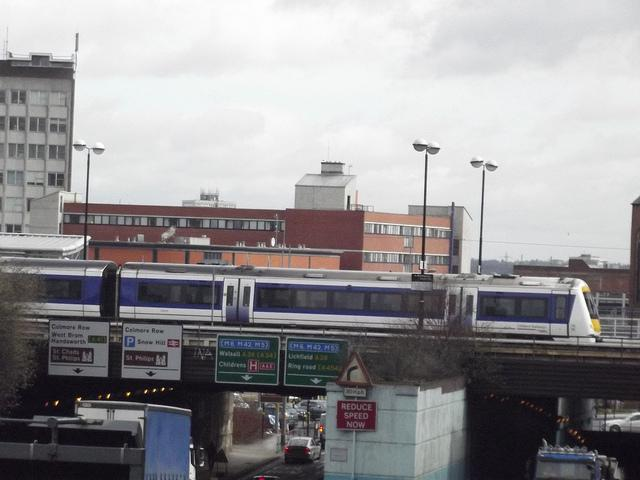Train: (3, 260, 602, 345)
